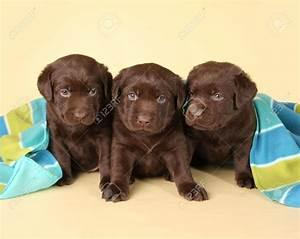dog: (101, 62, 208, 202), (36, 53, 113, 191), (181, 60, 258, 189)
